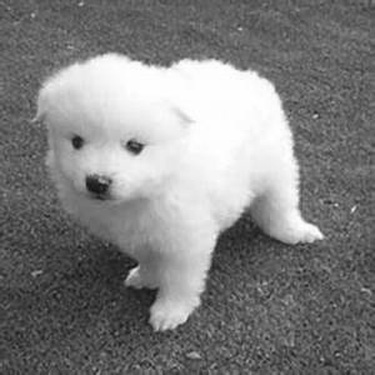dog: (20, 34, 331, 348)
